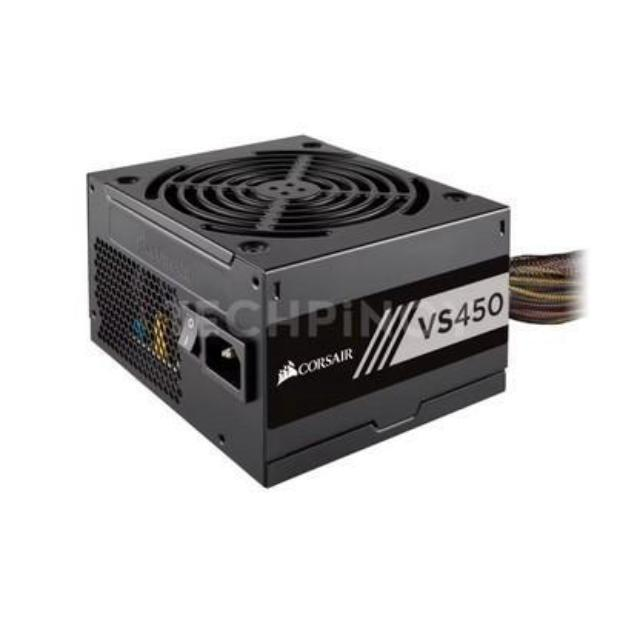PSU: (74, 122, 522, 496)
